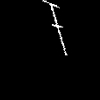double_crochet: (43, 0, 66, 54)
